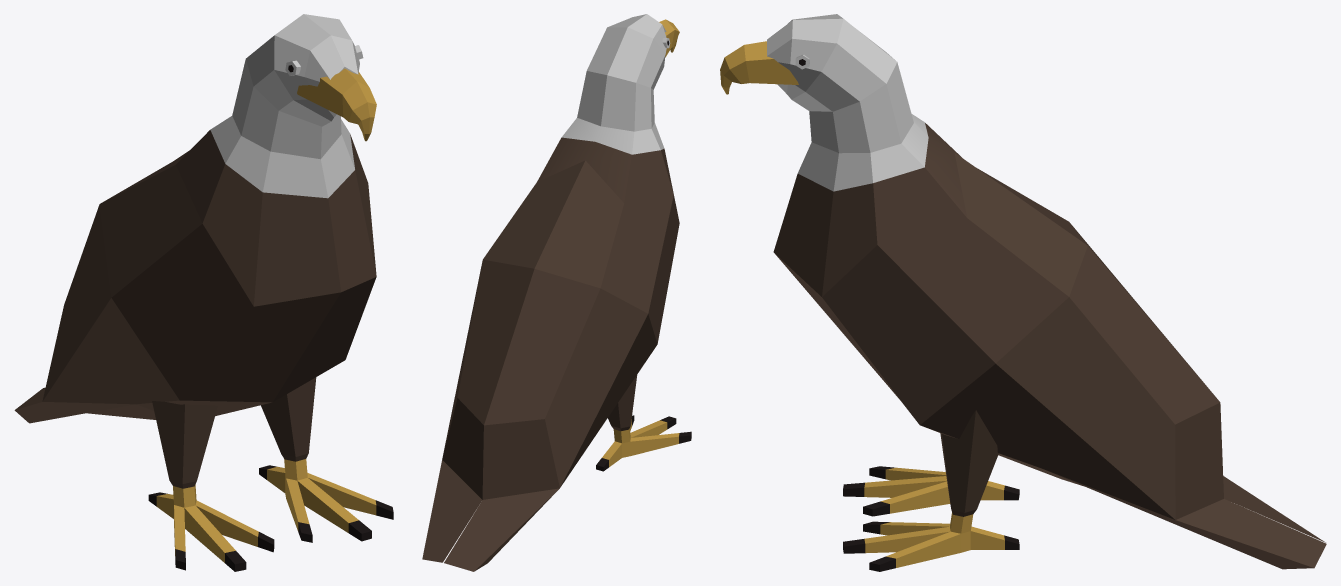
The model's file is eagle.glb.
3 renders of one model, left to right at view 1: azimuth 30°, elevation 25°; view 2: azimuth 150°, elevation 25°; view 3: azimuth 270°, elevation 25°, orthographic. The views are drawn at different scales.
Parts seen in each view (by area): view 1: Geo_Eagle; view 2: Geo_Eagle; view 3: Geo_Eagle.
Part boxes in pixels (<box>): Geo_Eagle: <box>14,14,393,571</box>; Geo_Eagle: <box>422,14,691,571</box>; Geo_Eagle: <box>720,14,1326,571</box>.
Bounding box in the file's own units: 47.86 × 118 × 122.
